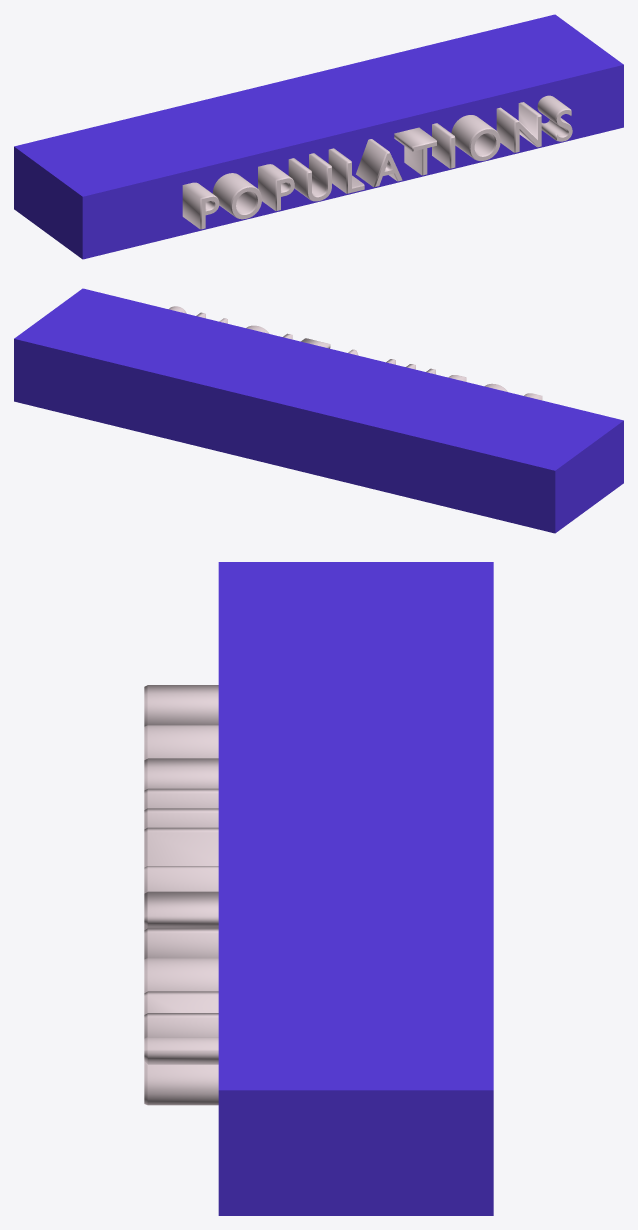
The model's file is population.gltf.
The picture shows the model from 3 angles, top to bottom: view 1: azimuth 30°, elevation 25°; view 2: azimuth 150°, elevation 25°; view 3: azimuth 270°, elevation 25°; orthographic projection. The views are drawn at different scales.
Parts seen in each view (by area): view 1: Cube.005, CEELS.005; view 2: Cube.005, CEELS.005; view 3: Cube.005, CEELS.005.
Part boxes in pixels (x1,y1,x2,y2): Cube.005: (14, 14, 623, 259); CEELS.005: (182, 95, 572, 229); Cube.005: (14, 288, 623, 533); CEELS.005: (168, 306, 542, 400); Cube.005: (218, 562, 493, 1215); CEELS.005: (144, 685, 218, 1105).
Size of the model in its own units: 6.24 by 0.6912 by 1.74.
